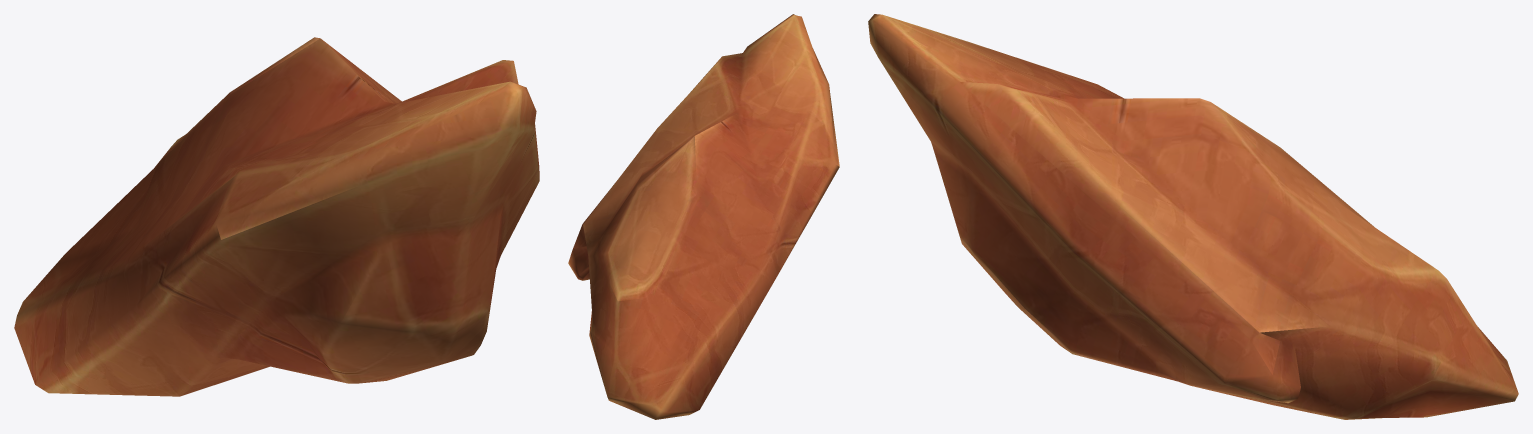
File: DE_Rock_17.fbx
3 views of the same model, side by side, from view 1: azimuth 30°, elevation 25°; view 2: azimuth 150°, elevation 25°; view 3: azimuth 270°, elevation 25° (orthographic). The views are drawn at different scales.
Parts seen in each view (by area): view 1: DE_Rock_17; view 2: DE_Rock_17; view 3: DE_Rock_17.
Part boxes in pixels (<box>): DE_Rock_17: <box>14,37,539,396</box>; DE_Rock_17: <box>568,14,839,419</box>; DE_Rock_17: <box>868,14,1518,419</box>.
Bounding box in the file's own units: 4.12 × 5.05 × 7.05.
